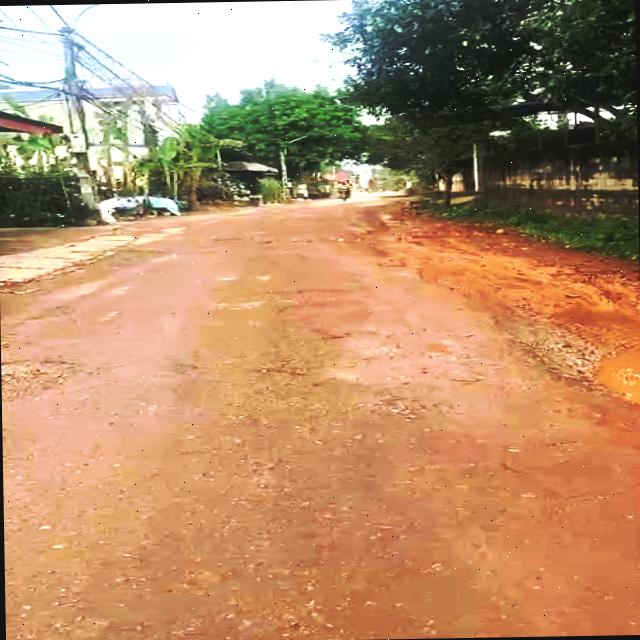pothole: (555, 340, 640, 411), (1, 356, 100, 405)
